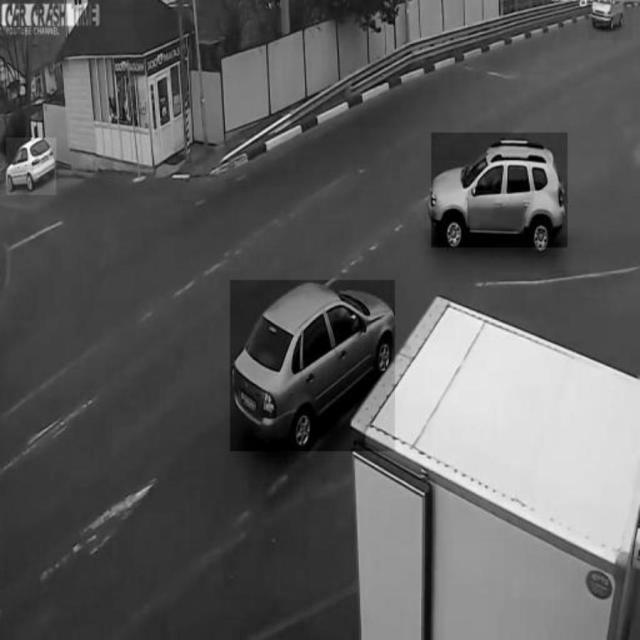vehicle: (230, 280, 395, 450), (431, 133, 567, 247), (7, 137, 57, 195), (588, 0, 633, 40)
